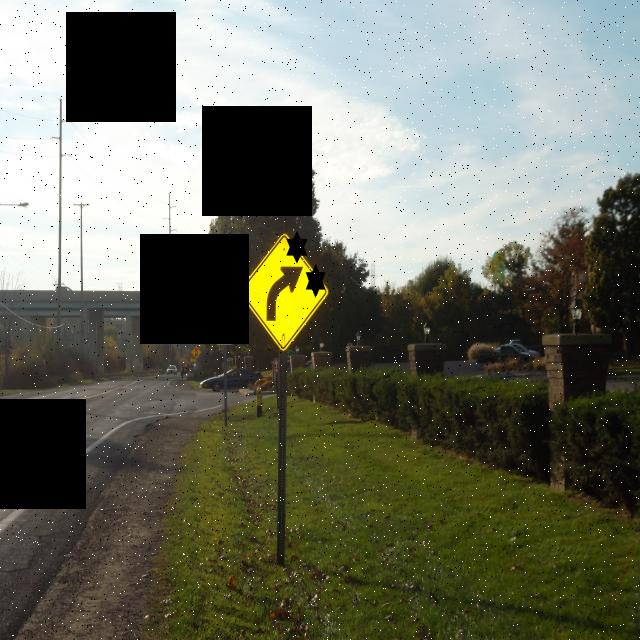regulatory: (215, 312, 235, 346)
warning: (239, 231, 334, 352), (192, 342, 204, 360)
